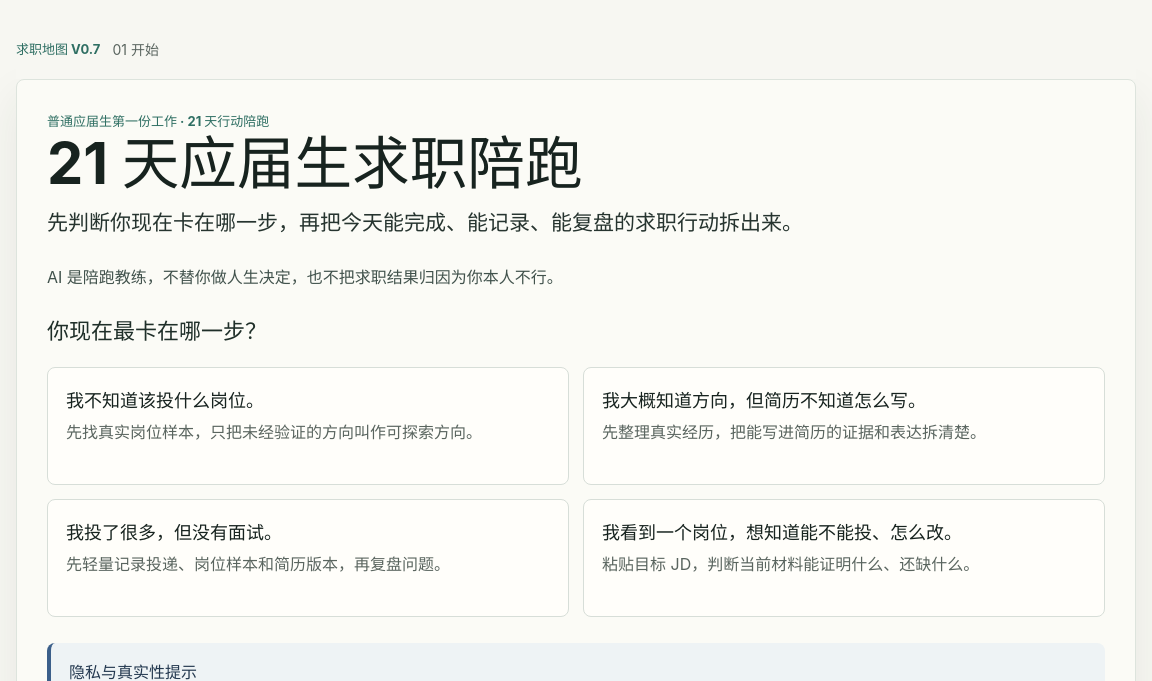
Test: 基础信息页标注城市和目标方向为可选，并显示真实 AI 等待提示
Click the button "我大概知道方向，但简历不知道怎么写。" at (844, 426), box [583,367,1105,485]
(page scrolled)
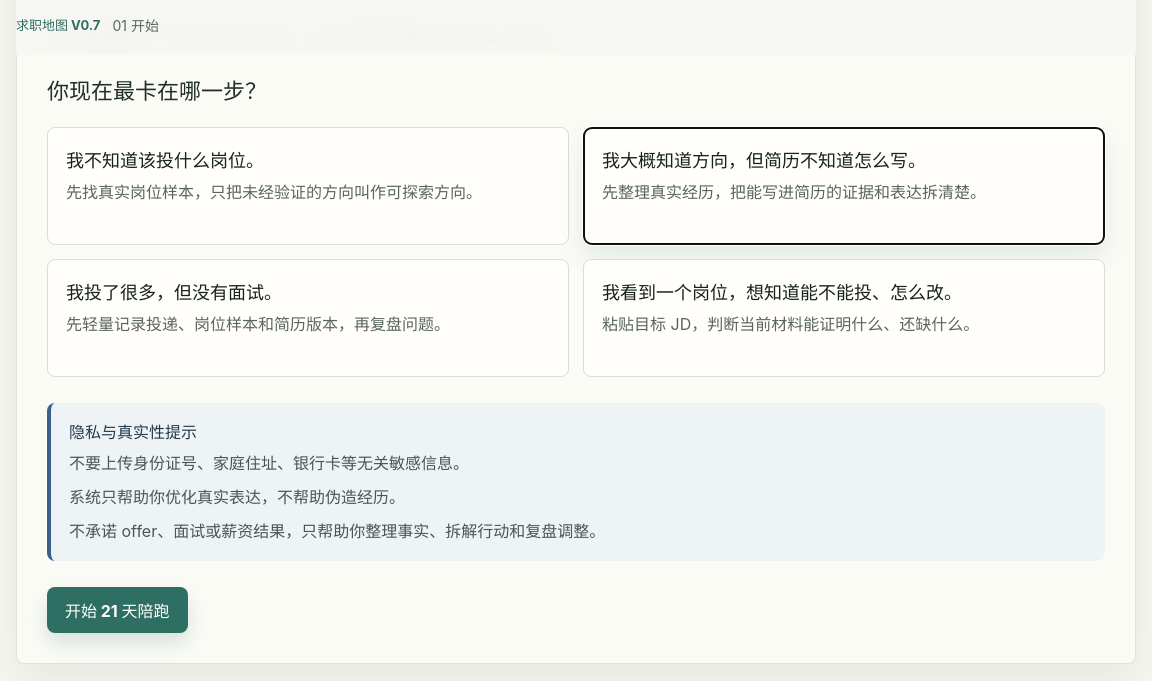
Click the button "开始 21 天陪跑" at (117, 610), box [47,587,188,633]
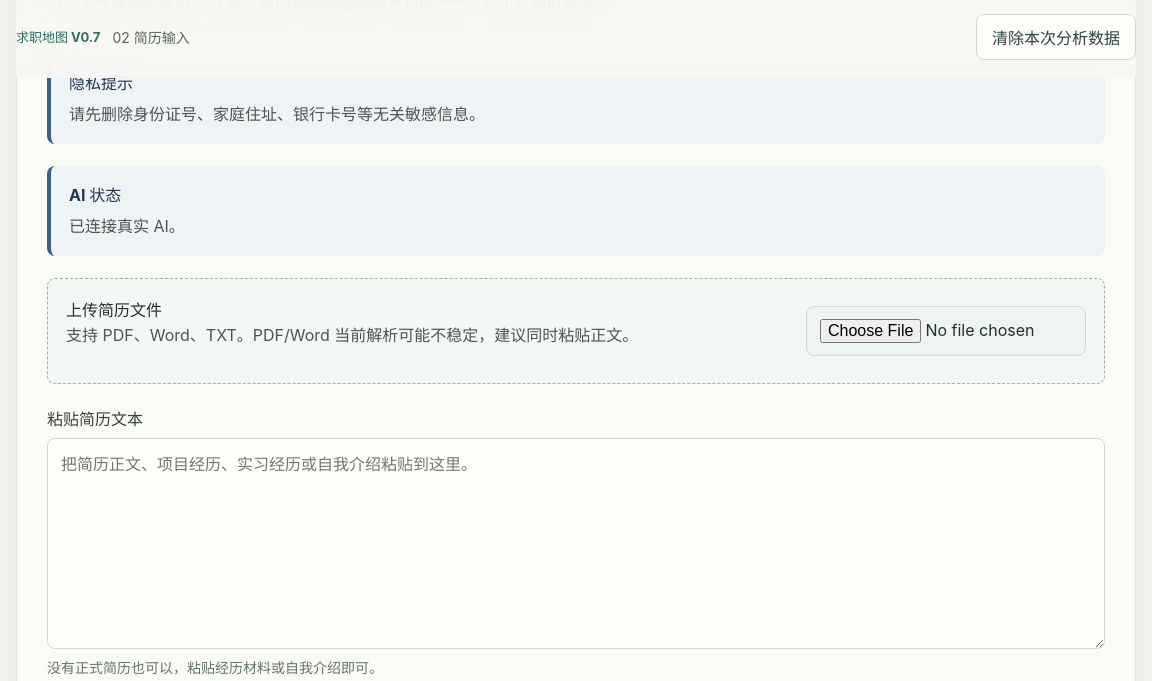
Expected: the text "已连接真实 AI。" is shown, [69,216,185,236]
Type "本科 市场营销 教育机构运营实习" into the text box labelled "粘贴简历文本" at (576, 544), box [47,438,1105,649]
(page scrolled)
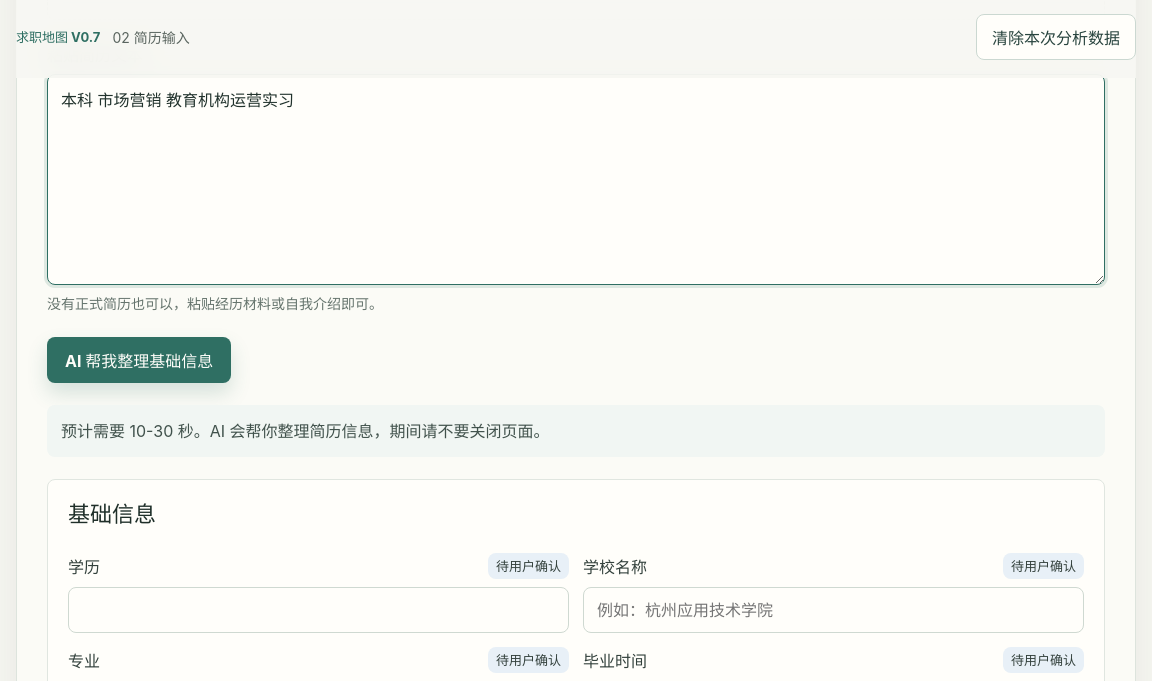
Click the button "AI 帮我整理基础信息" at (139, 360), box [47,337,231,383]
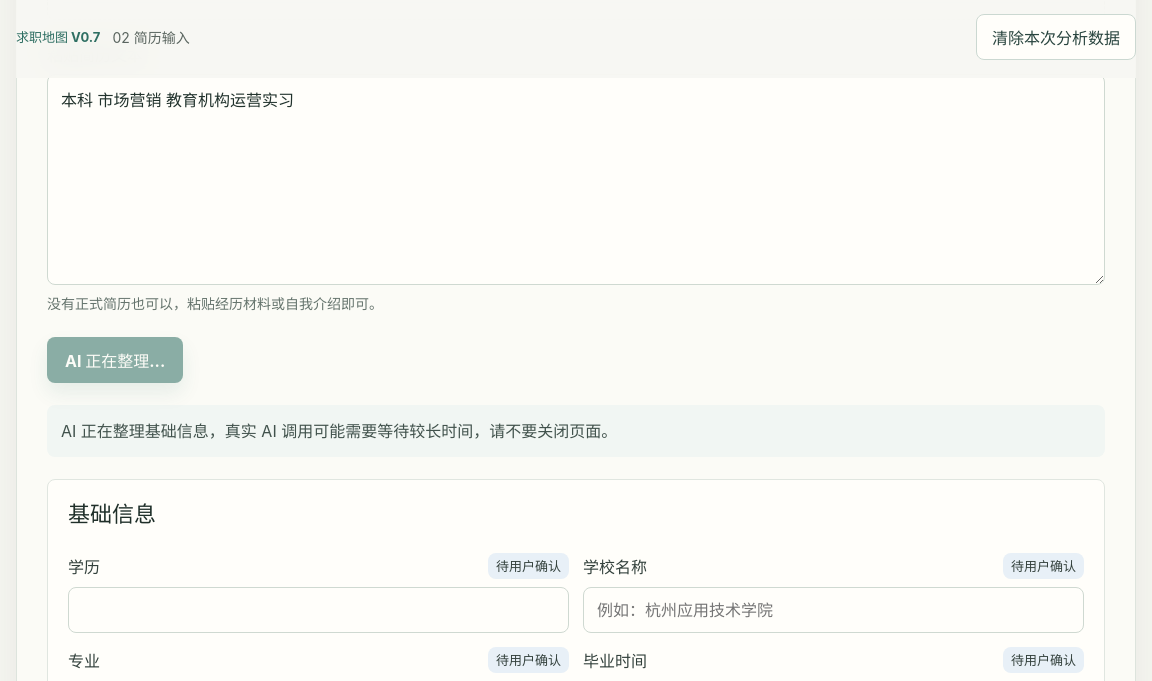
Expected: the message shows "AI 正在整理基础信息", [61,421,617,441]
Expected: the message shows "可能需要等待较长时间", [61,421,617,441]
